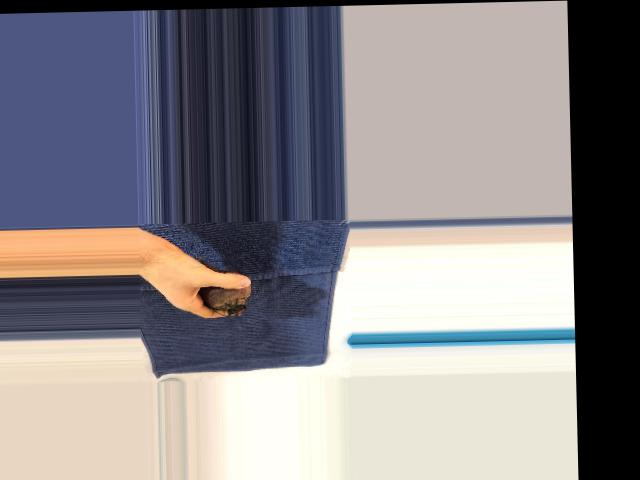beet: (199, 253, 252, 316)
